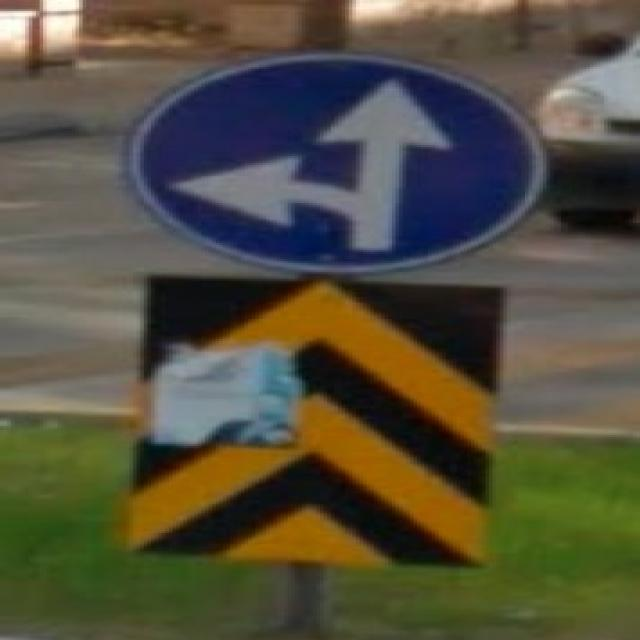Straight or Left: (131, 52, 548, 273)
